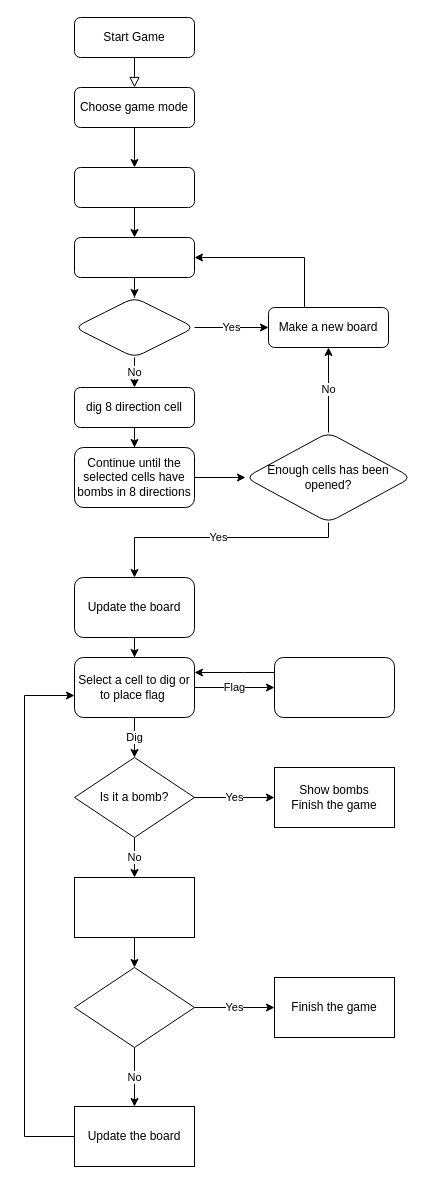
This 429x1184 diagram has some shape labels left out. Each missing label, with the box of its shape:
All of the bombs detected?: (74, 966, 194, 1048)
dig first cell: (74, 236, 194, 278)
Dig it and neighboring cells: (74, 876, 194, 938)
is it bomb?: (74, 296, 194, 358)
make a board: (74, 166, 194, 208)
Place Flag and update the board: (274, 656, 394, 718)
